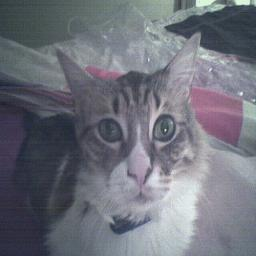catnose: (126, 160, 152, 188)
